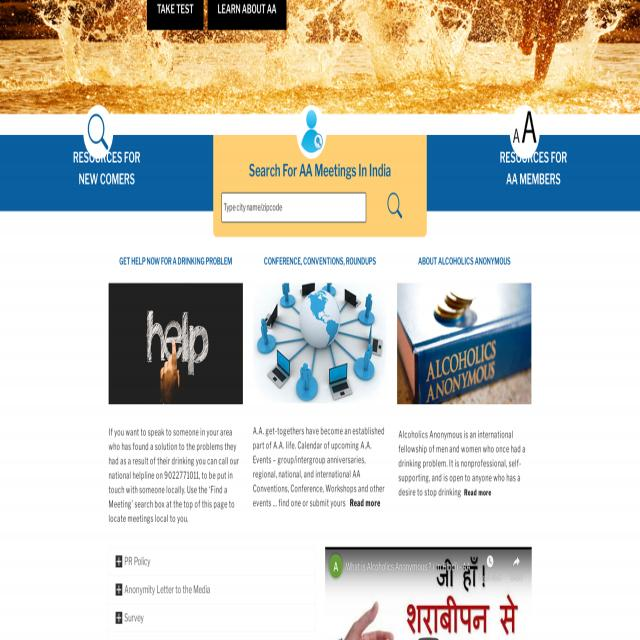button: (325, 546, 532, 640), (108, 283, 243, 405), (397, 283, 531, 405), (253, 284, 387, 403), (109, 548, 315, 576), (109, 576, 315, 604), (109, 607, 315, 629), (208, 0, 286, 30), (147, 0, 203, 30), (296, 106, 327, 160), (509, 105, 540, 158), (83, 105, 113, 159), (478, 553, 503, 585), (506, 553, 525, 588), (386, 190, 405, 223), (329, 554, 344, 580)
field: (222, 193, 366, 222)
